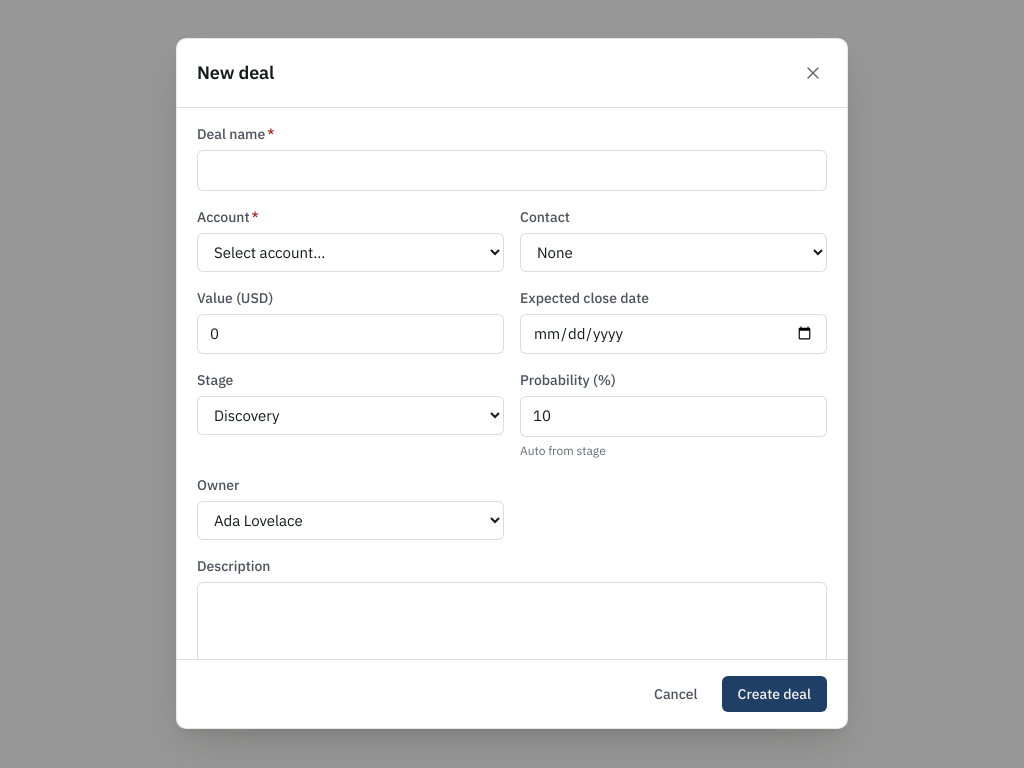
Test: OpportunityFormModal › validation › blocks submission and focuses the first invalid field
The width and height of the screenshot is (1024, 768).
expect the dialog is shown: met, box [176,38,848,730]
Click the button "Create deal". click: click(774, 695)
box: [722,677,827,713]
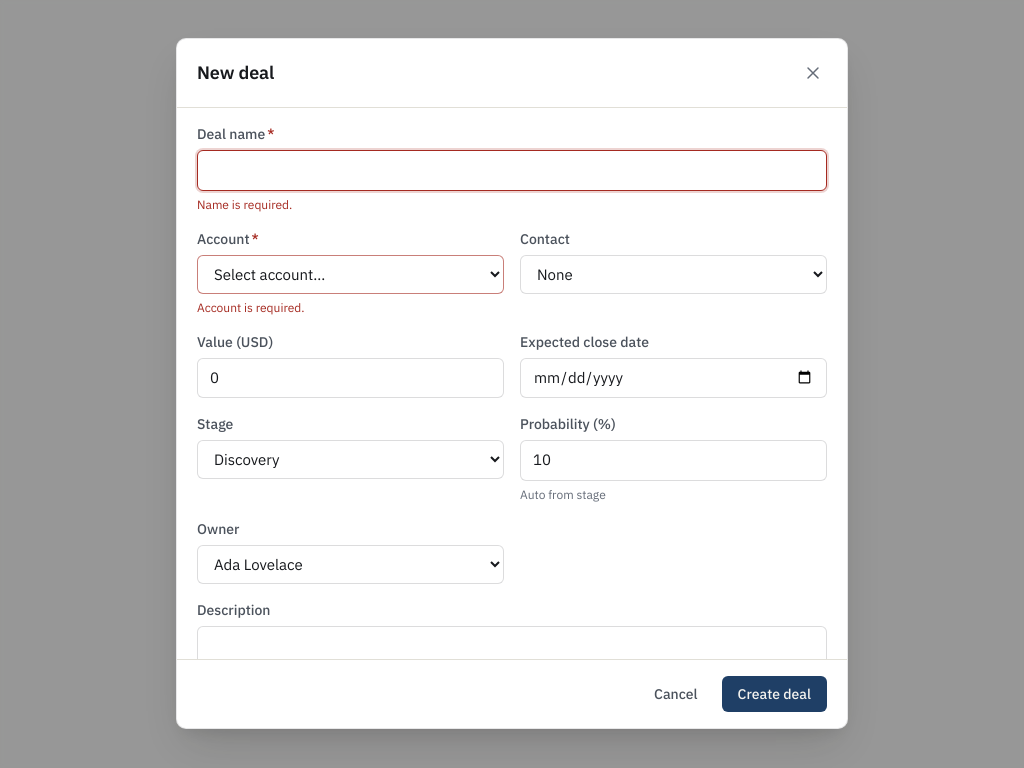
expect the text "Name is required." is shown: met, box [197,197,292,212]
expect the text "Account is required." is shown: met, box [197,300,305,315]
